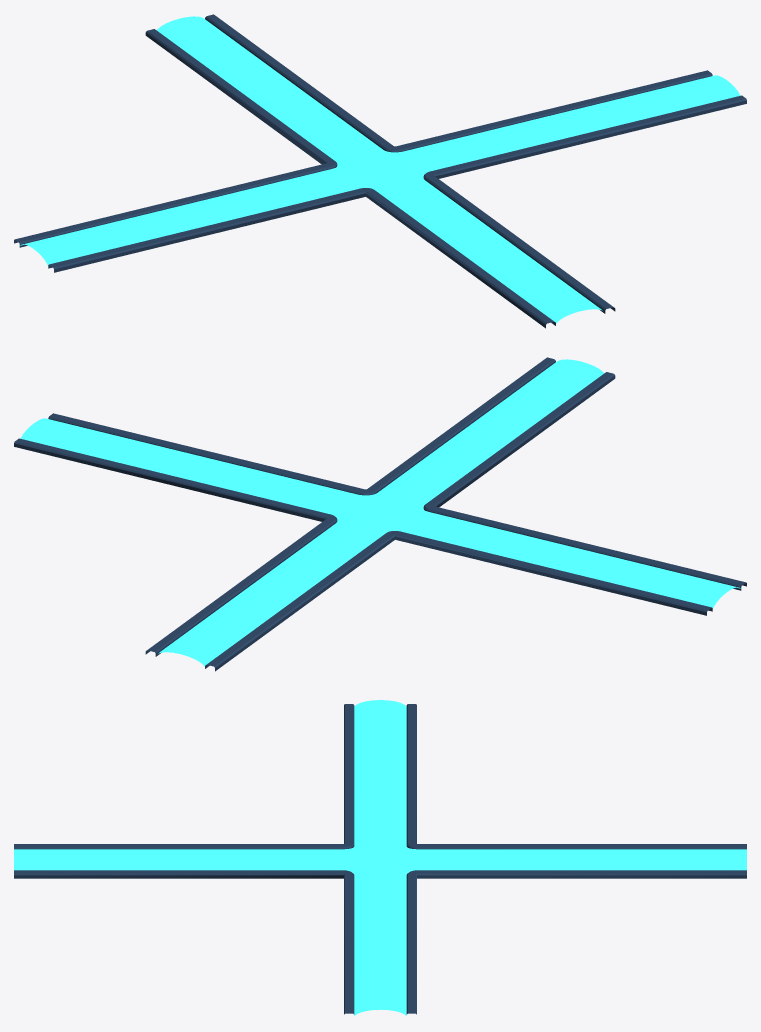
The model's file is Light_Trim_01_RoundCrossX.fbx.
3 renders of one model, top to bottom at view 1: azimuth 30°, elevation 25°; view 2: azimuth 150°, elevation 25°; view 3: azimuth 270°, elevation 25°, orthographic. The views are drawn at different scales.
Parts seen in each view (by area): view 1: Light_Trim_01_RoundCrossX.001; view 2: Light_Trim_01_RoundCrossX.001; view 3: Light_Trim_01_RoundCrossX.001.
Part boxes in pixels (x1=…): Light_Trim_01_RoundCrossX.001: x1=14, y1=14, x2=746, y2=328; Light_Trim_01_RoundCrossX.001: x1=14, y1=357, x2=746, y2=671; Light_Trim_01_RoundCrossX.001: x1=14, y1=700, x2=746, y2=1015.
Size of the model in its own units: 1 by 0.0123 by 1.
